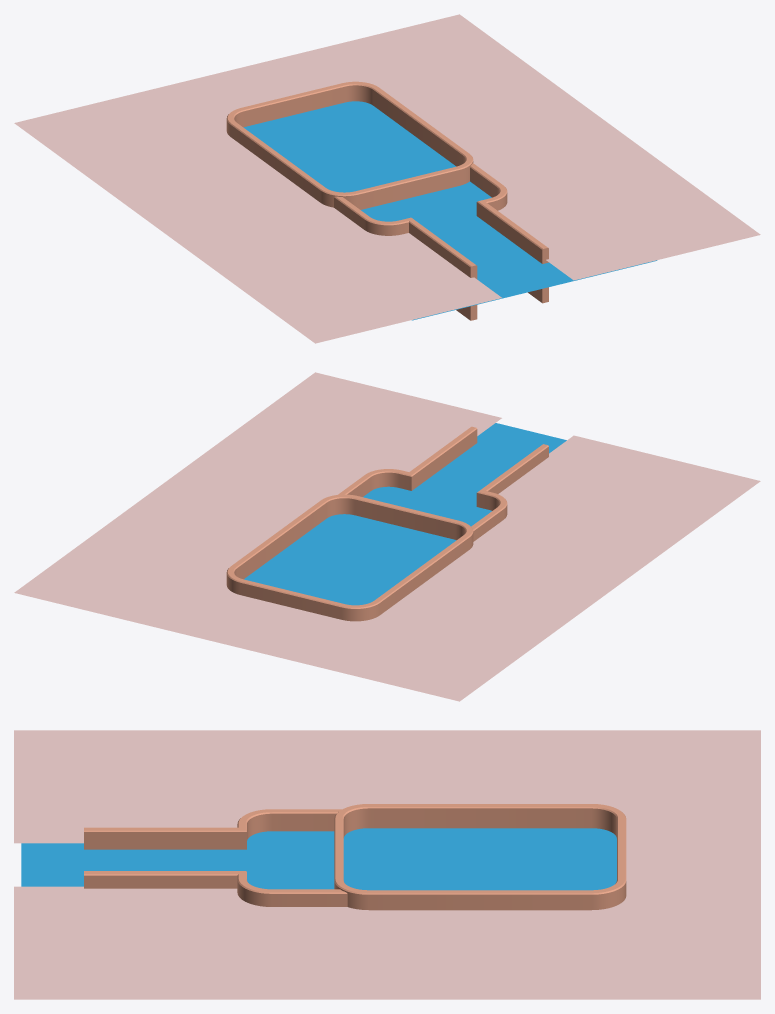
File: map_2.fbx
3 views of the same model, one above another, from view 1: azimuth 30°, elevation 25°; view 2: azimuth 150°, elevation 25°; view 3: azimuth 270°, elevation 25° (orthographic). The views are drawn at different scales.
Parts seen in each view (by area): view 1: ground_2, water_surface, map_top, map_bot_2; view 2: ground_2, water_surface, map_top, map_bot_2; view 3: ground_2, water_surface, map_top, map_bot_2.
Part boxes in pixels (bbox=[...]): ground_2: bbox=[14, 14, 760, 343]; water_surface: bbox=[243, 101, 657, 320]; map_top: bbox=[226, 81, 473, 209]; map_bot_2: bbox=[334, 163, 548, 320]; ground_2: bbox=[14, 372, 760, 701]; water_surface: bbox=[244, 423, 566, 605]; map_top: bbox=[226, 494, 473, 621]; map_bot_2: bbox=[338, 426, 548, 541]; ground_2: bbox=[14, 730, 760, 999]; water_surface: bbox=[21, 828, 616, 890]; map_top: bbox=[334, 804, 626, 910]; map_bot_2: bbox=[84, 809, 347, 906].
Bounding box in the file's own units: 5403 × 649 × 6325.
